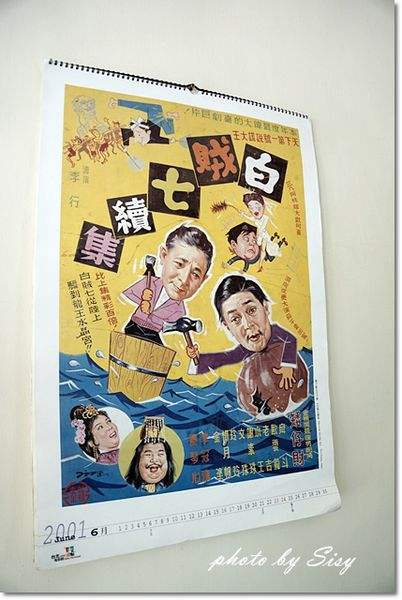bill: (61, 83, 324, 514)
